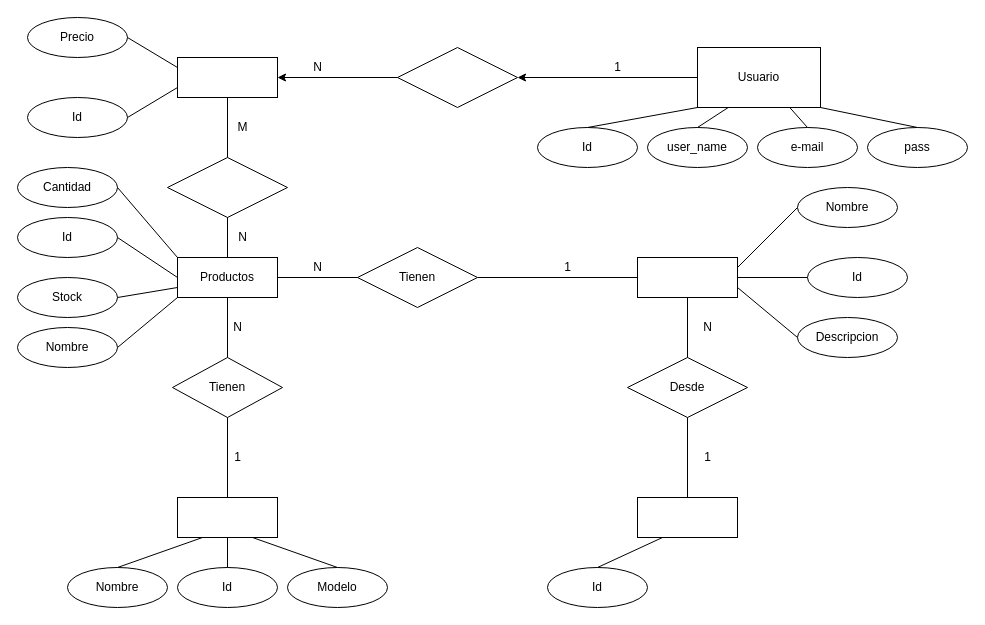
The diagram is 985 pixels wide and 625 high, and some of its shapes have lost their labels. Here are the shapes that lost their labels. From the top down, the centre of each, then its label:
(x=227, y=77): Compras
(x=457, y=77): hacen
(x=227, y=187): Llevan
(x=687, y=277): Categorias
(x=227, y=517): Marcas
(x=687, y=517): Categoria_Padre
